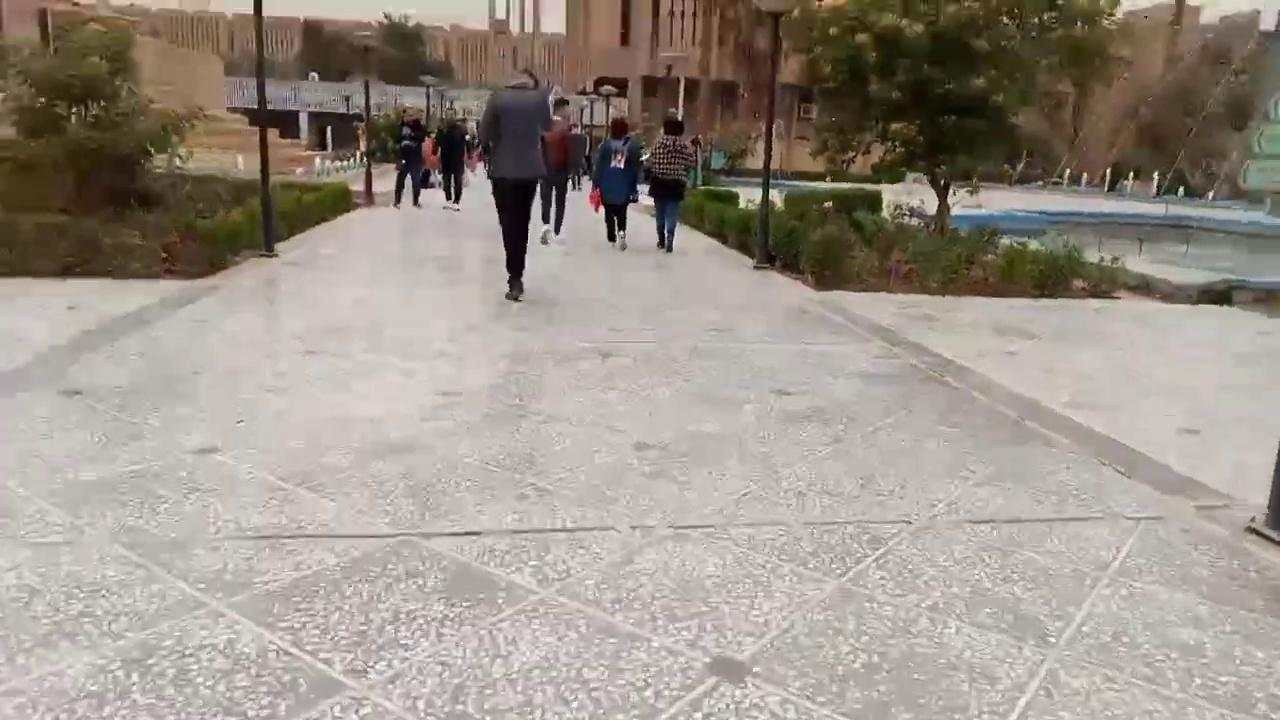fountain: (940, 0, 1280, 286), (291, 147, 368, 179)
person: (477, 67, 555, 301), (643, 114, 697, 252), (590, 116, 642, 250), (538, 97, 576, 244), (391, 107, 427, 208), (437, 115, 468, 211), (352, 113, 367, 164)
tree: (779, 0, 1118, 236), (2, 10, 205, 217), (861, 8, 1035, 236), (1108, 10, 1265, 201), (997, 0, 1125, 185), (304, 19, 429, 197)
